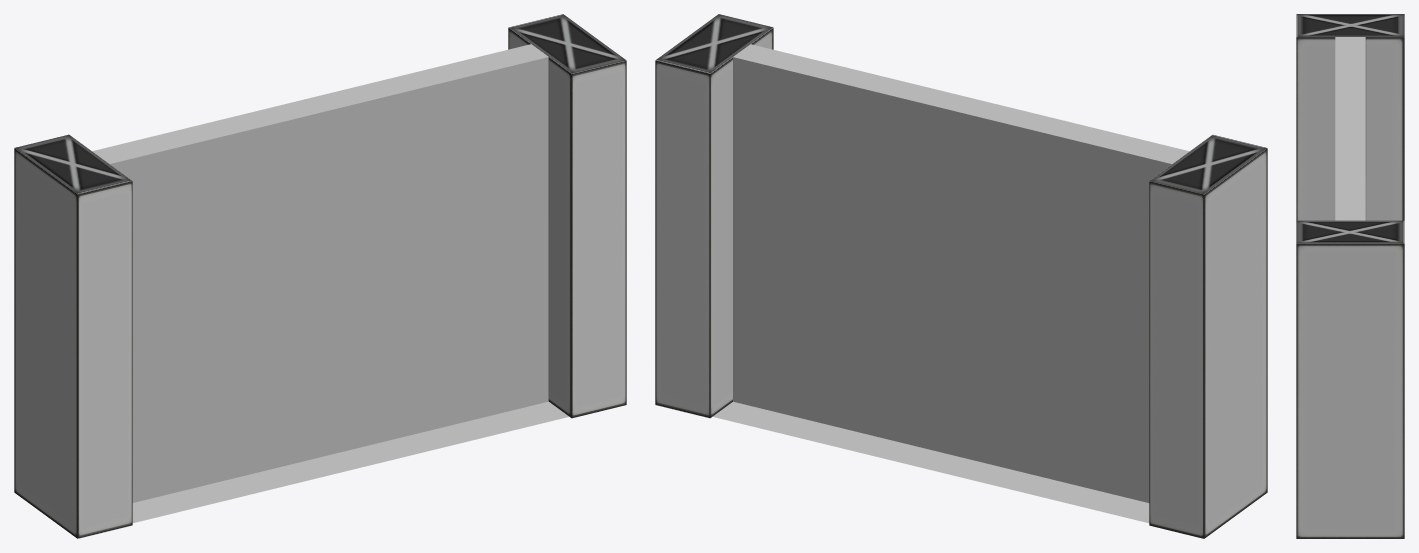
Rendered from doorWithSlide_UpdatedAnim.fbx.
3 renders of one model, left to right at view 1: azimuth 30°, elevation 25°; view 2: azimuth 150°, elevation 25°; view 3: azimuth 270°, elevation 25°, orthographic. The views are drawn at different scales.
Visible parts, largest first — view 1: DoorMesh1, SingleWall4, SingleWall1, SlideFloor; view 2: DoorMesh1, SingleWall4, SingleWall1, SlideFloor; view 3: SingleWall1, SingleWall4, DoorMesh1.
Boxes of the visible parts, x1,y1,x2,y2 form: DoorMesh1: (92, 44, 548, 502); SingleWall4: (14, 134, 132, 538); SingleWall1: (508, 14, 626, 418); SlideFloor: (132, 401, 569, 523); DoorMesh1: (733, 44, 1189, 502); SingleWall4: (1149, 134, 1267, 538); SingleWall1: (655, 14, 773, 418); SlideFloor: (712, 401, 1149, 523); SingleWall1: (1296, 220, 1404, 538); SingleWall4: (1296, 14, 1404, 220); DoorMesh1: (1335, 37, 1365, 220).
Size of the model in its own units: 5 by 3 by 1.
